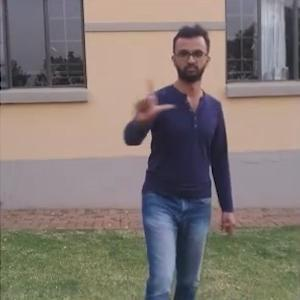land_hand: (130, 73, 180, 132)
